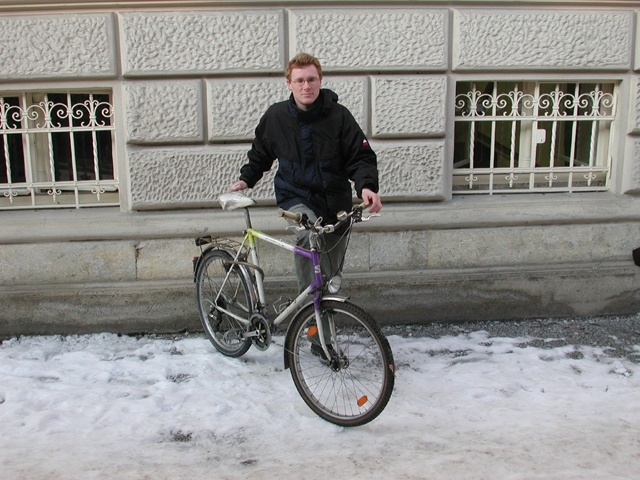person: (230, 51, 381, 372)
